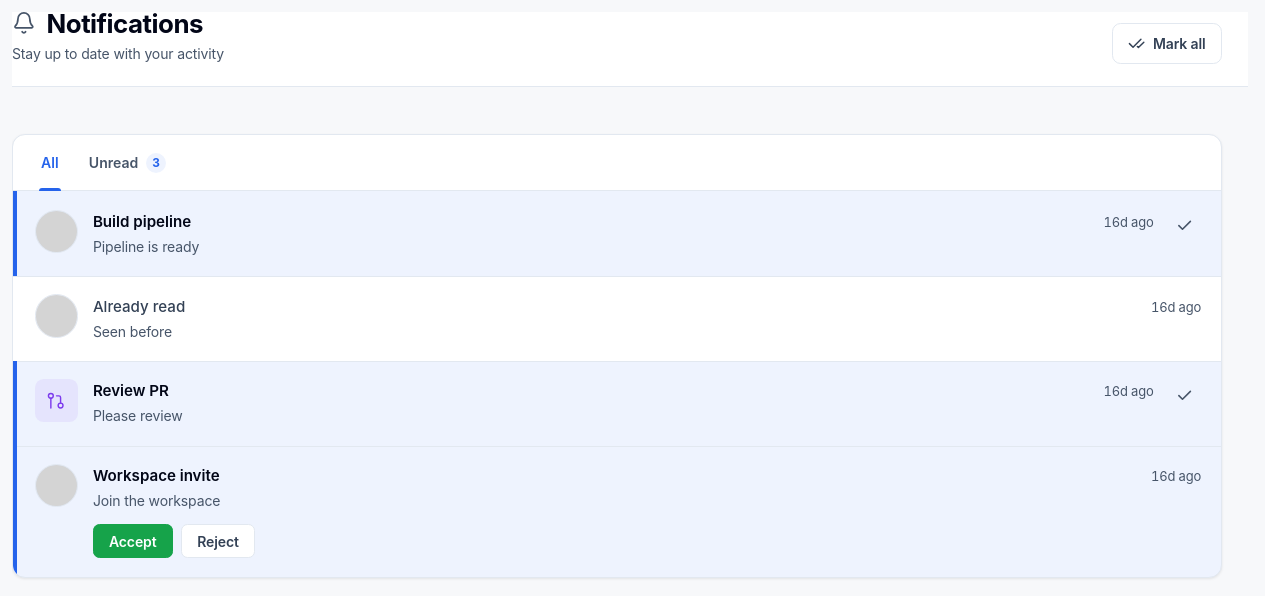
NotificationsPage › switches to unread notifications and accepts an invitation until the empty state is shown
Expected: the text "Build pipeline" is shown, [93,212,191,231]
Click the tab "Unread 3". click: (128, 163)
box: [74,135,182,190]
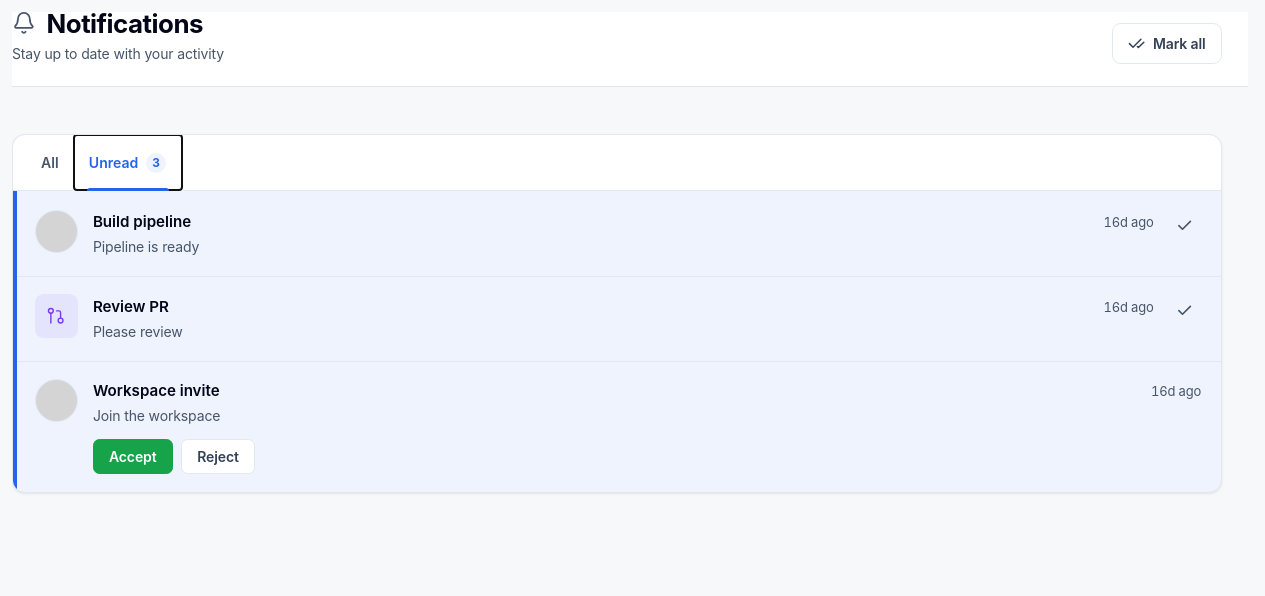
Expected: the text "Workspace invite" is shown, [93,381,220,400]
Click the text "Workspace invite". click: (617, 426)
box: [13,361,1221,492]
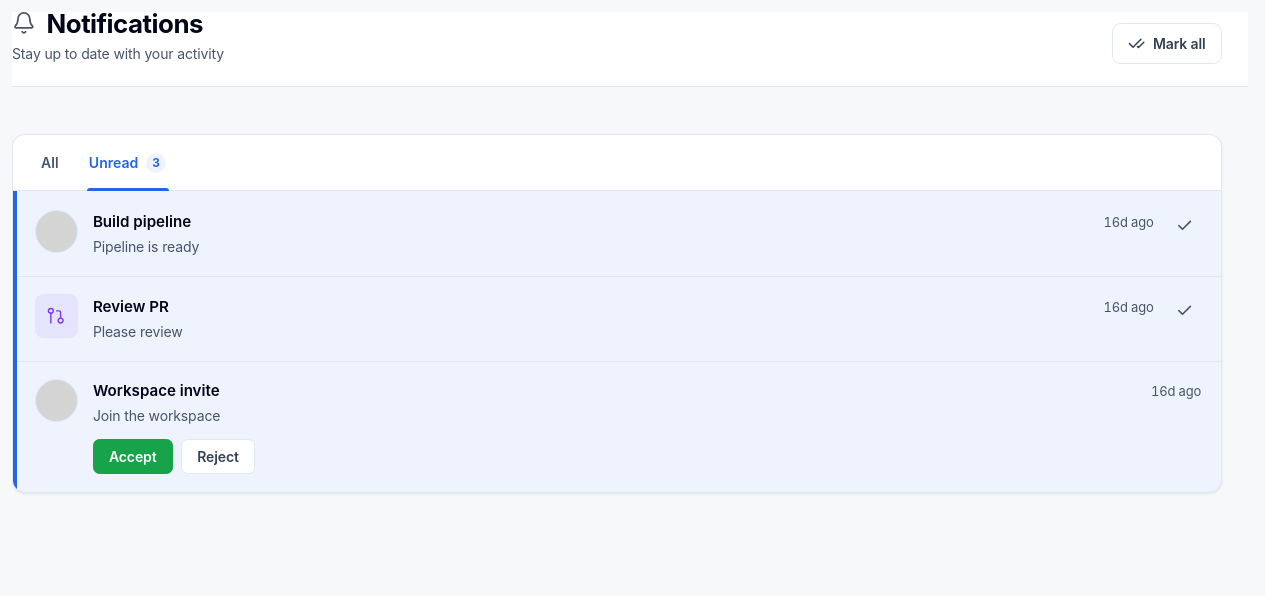
Click the button "Accept". click: (133, 456)
box: [93,439,173,474]
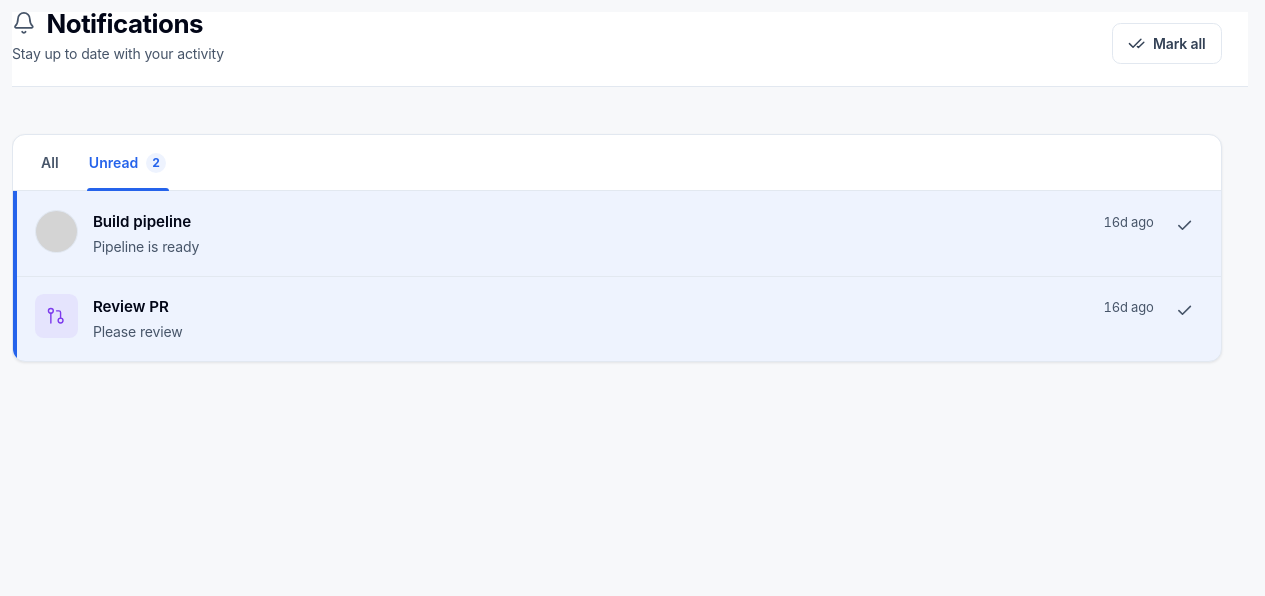
Click the button "Mark all". click: (1167, 44)
box: [1112,23,1222,64]
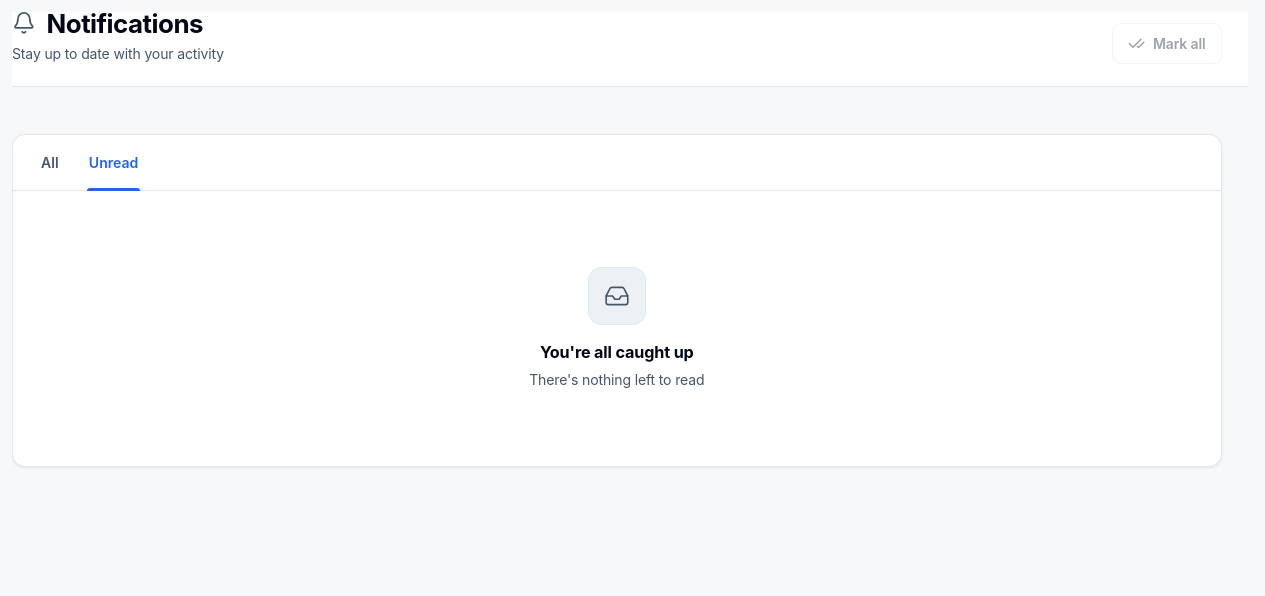
Expected: the text "You're all caught up" is shown, [540,342,694,362]
